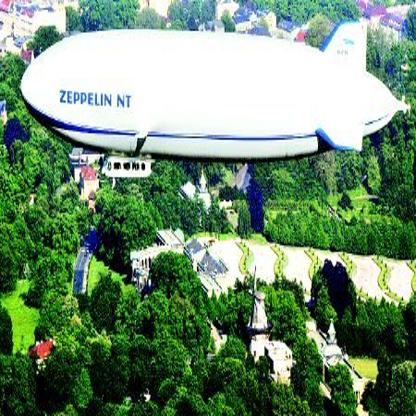Airship: (13, 17, 414, 181)
